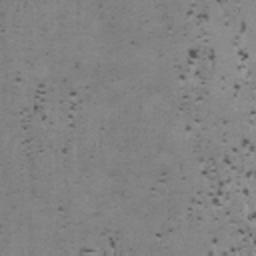Oxide scale of temperature system: (78, 170, 174, 256), (178, 6, 249, 111), (211, 137, 256, 253), (26, 82, 72, 170), (159, 167, 171, 176), (109, 94, 120, 103), (57, 206, 69, 213)
